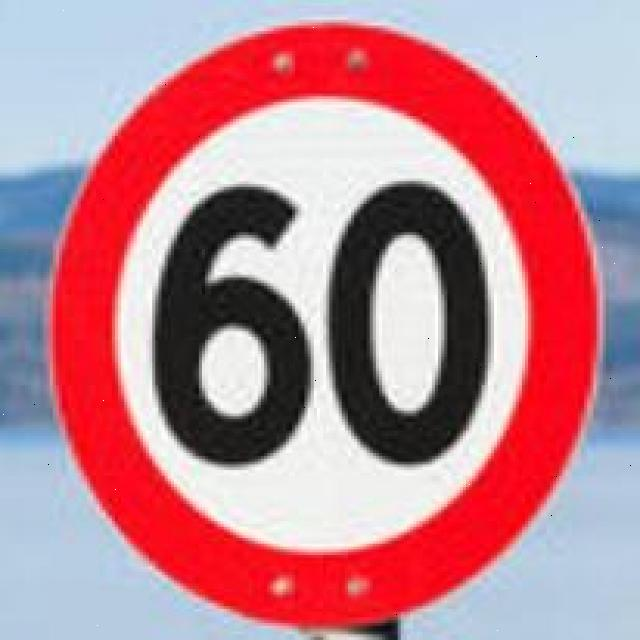speed limit 60: (48, 24, 606, 638)
